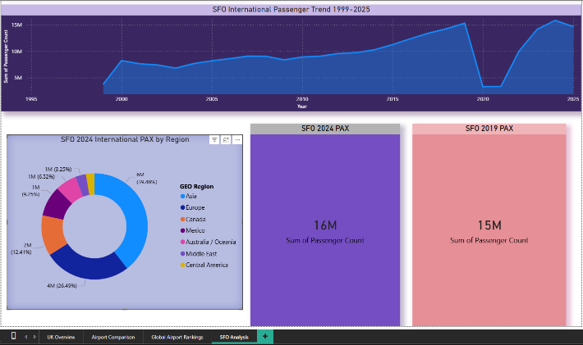

The dashboard page shown, as its layout file describes it:
{"tool":"powerbi","page":{"name":"SFO Analysis","canvas":[1280,720],"ordinal":3},"visuals":[{"type":"areaChart","title":"SFO International Passenger Trend 1999-2025","fields":{"Category":["SFO_International.Year"],"Y":["Sum(SFO_International.Passenger Count)"]},"box":[0,9.1,1280.4,235.8],"z":0},{"type":"donutChart","title":"SFO 2024 International PAX by Region","fields":{"Category":["SFO_International.GEO Region"],"Y":["Sum(SFO_International.Passenger Count)"]},"box":[12.7,296.5,520.5,387.2],"z":1000},{"type":"card","title":"SFO 2024 PAX","fields":{"Values":["Sum(SFO_International.Passenger Count)"]},"box":[549.5,272,331,448],"z":2000},{"type":"card","title":"SFO 2019 PAX ","fields":{"Values":["Sum(SFO_International.Passenger Count)"]},"box":[907.7,272,339.1,448],"z":3000}]}

Visuals, with their boxes on the page's 1280x720 design canvas (x1, y1, x2, y2). These are canvas units, not pixel positions in the 583x345 screenshot, which may show the page scaled, cropped or inside an application window:
"SFO International Passenger Trend 1999-2025" areaChart: [x1=0, y1=9, x2=1280, y2=245]
"SFO 2024 International PAX by Region" donutChart: [x1=13, y1=296, x2=533, y2=684]
"SFO 2024 PAX" card: [x1=550, y1=272, x2=880, y2=720]
"SFO 2019 PAX " card: [x1=908, y1=272, x2=1247, y2=720]
